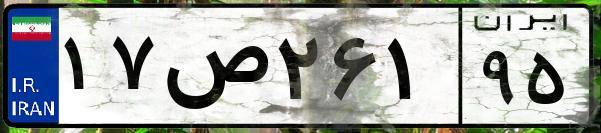1: (385, 28, 445, 110), (57, 26, 110, 100)
2: (270, 28, 330, 110)
5: (525, 38, 570, 115)
6: (330, 28, 385, 110)
7: (110, 28, 158, 98)
9: (475, 38, 525, 113)
ص: (158, 20, 270, 120)
